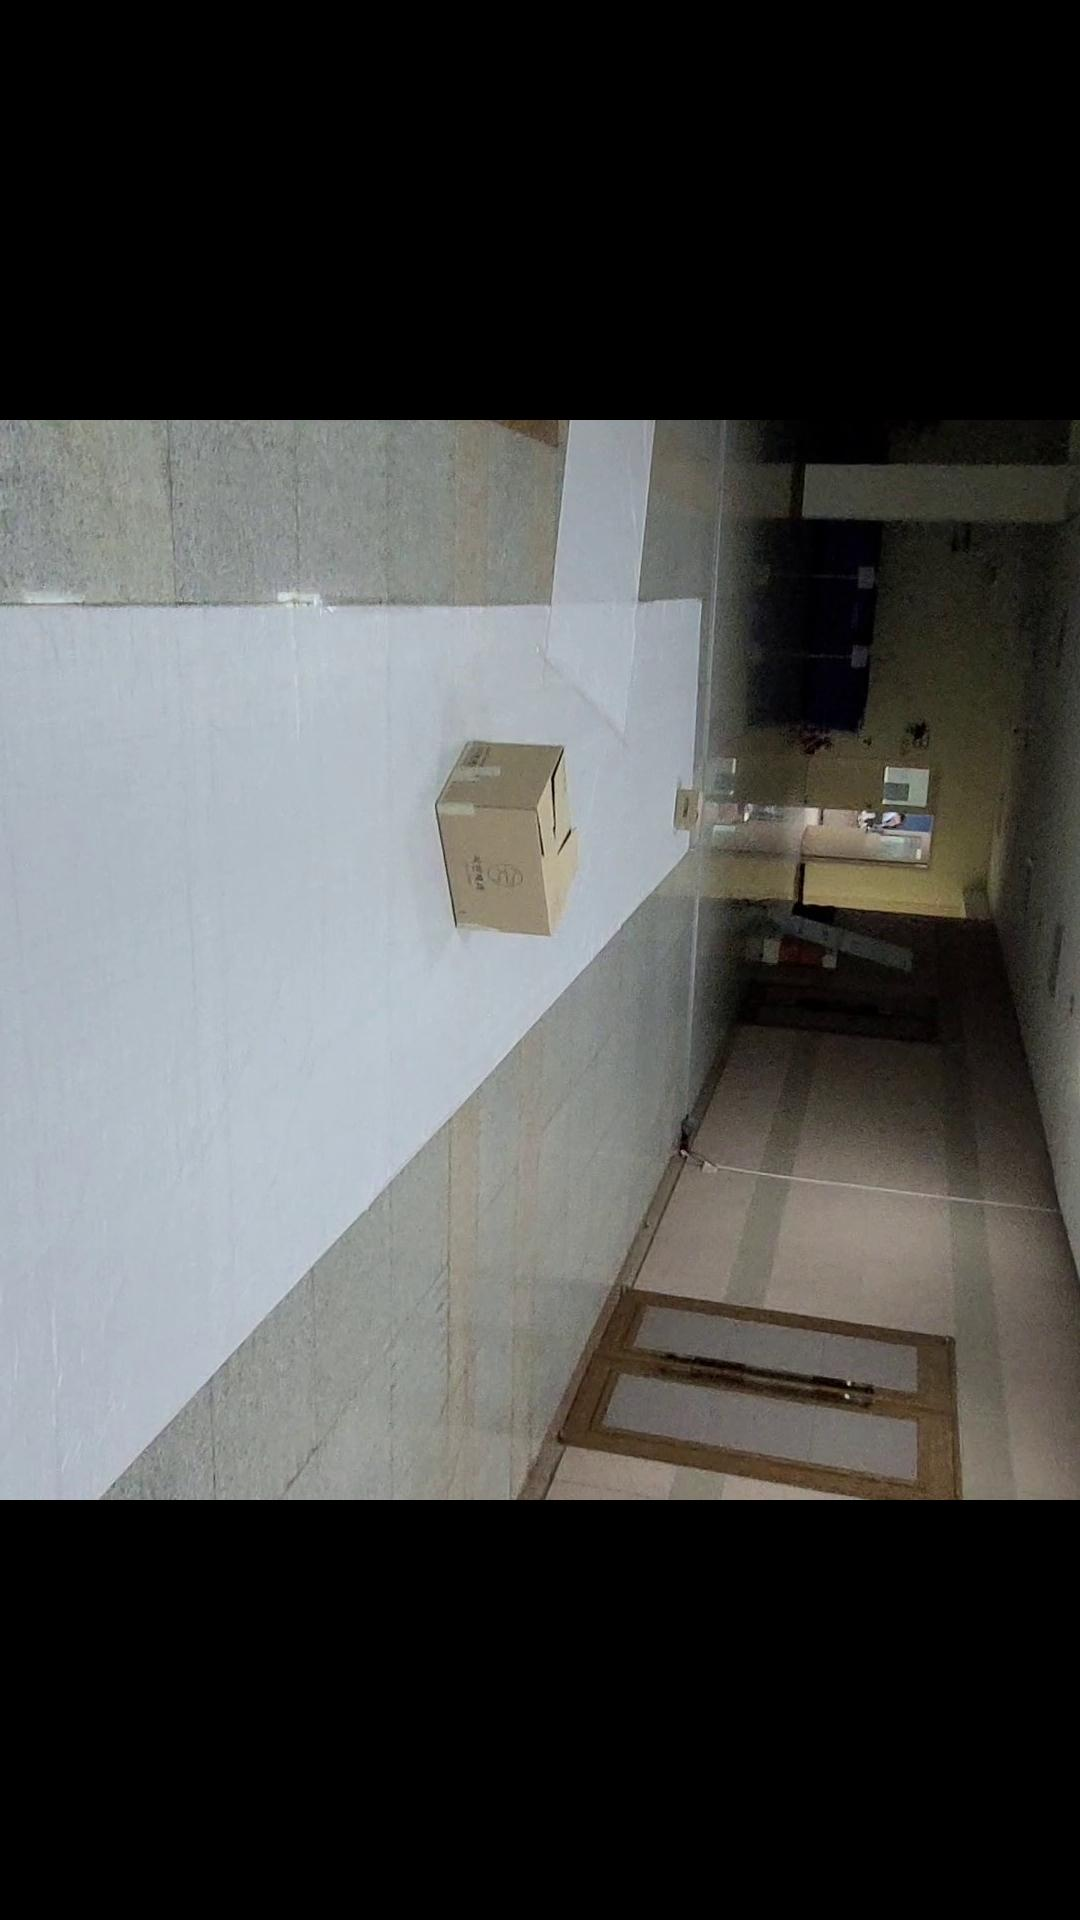Box: (425, 728, 607, 949), (642, 773, 723, 852)
